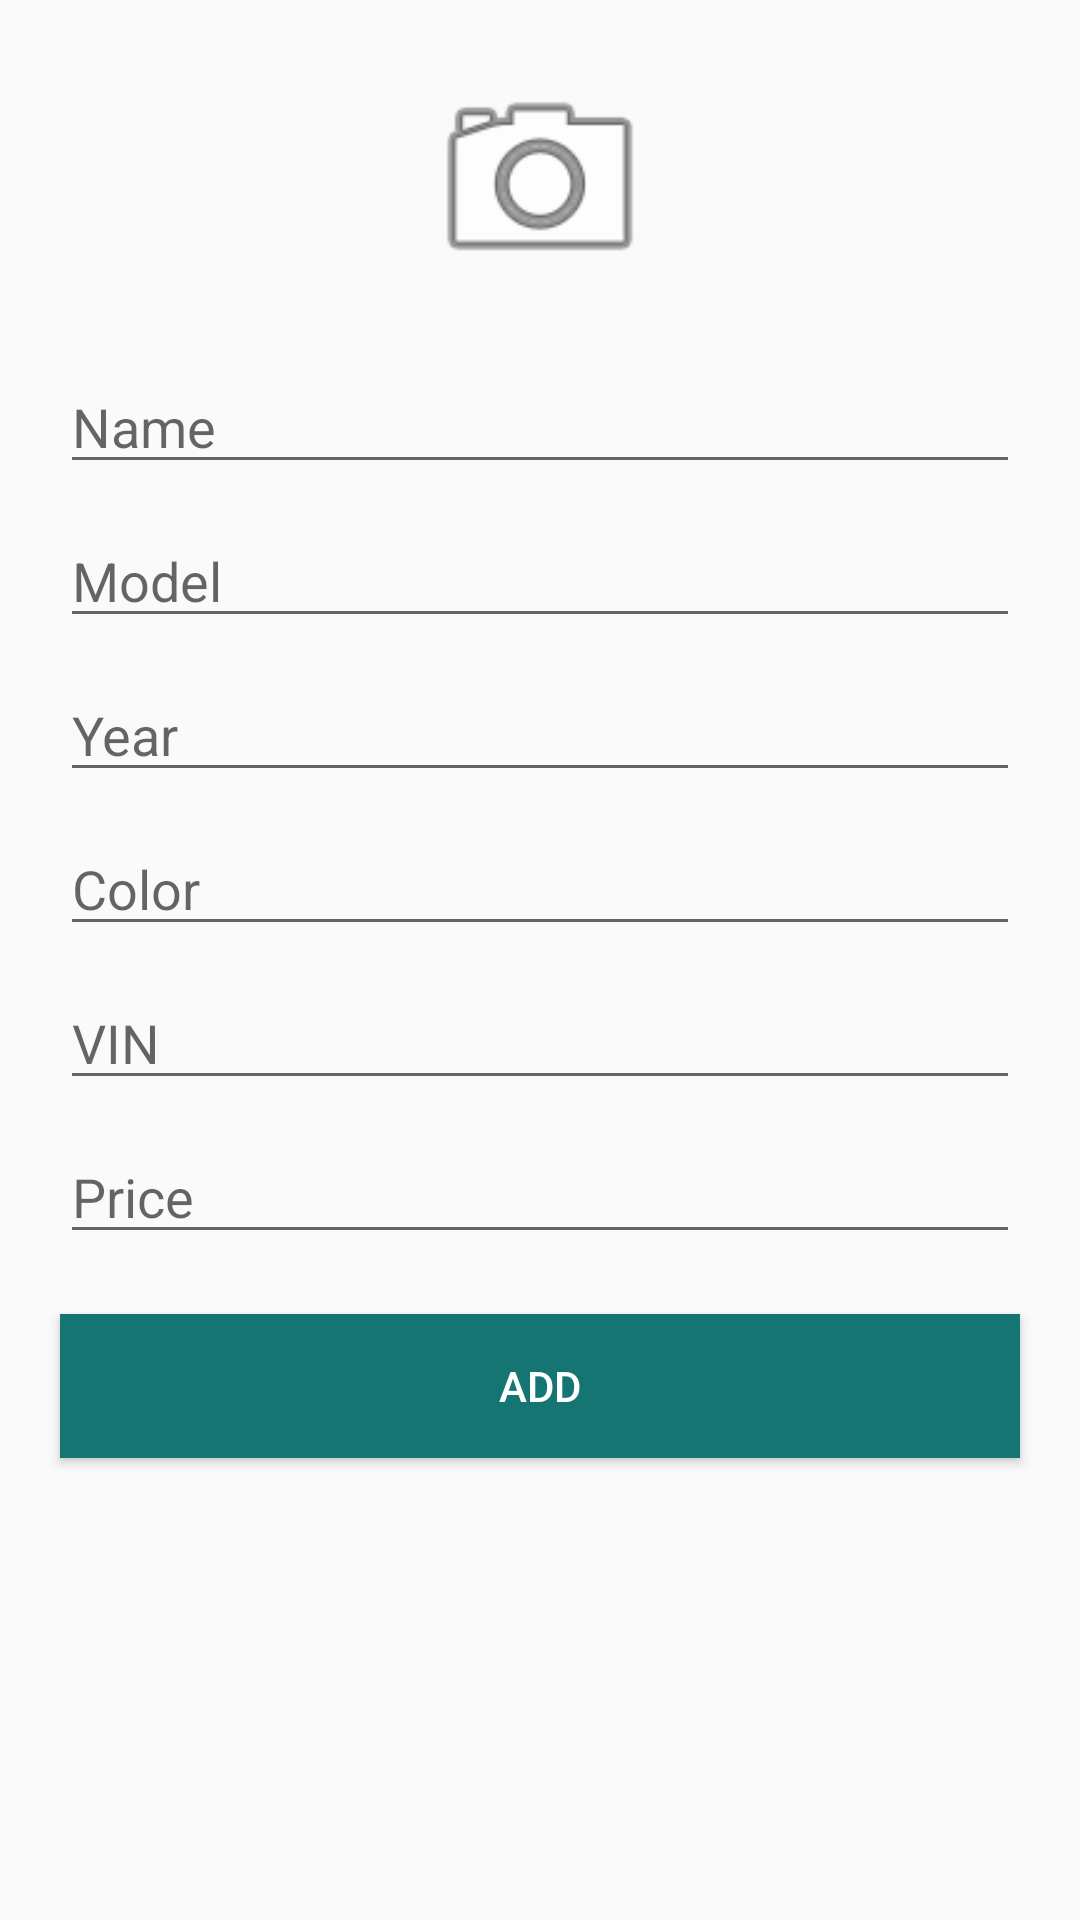

Point at icon controls on the screen. Image size 1080 x 1920, points as [x,y].
camera: [540,176]
